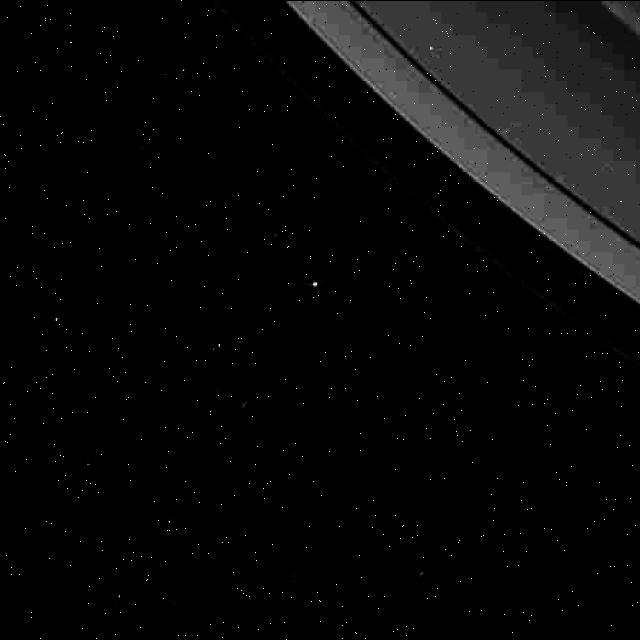Saturn: (154, 0, 640, 377)
